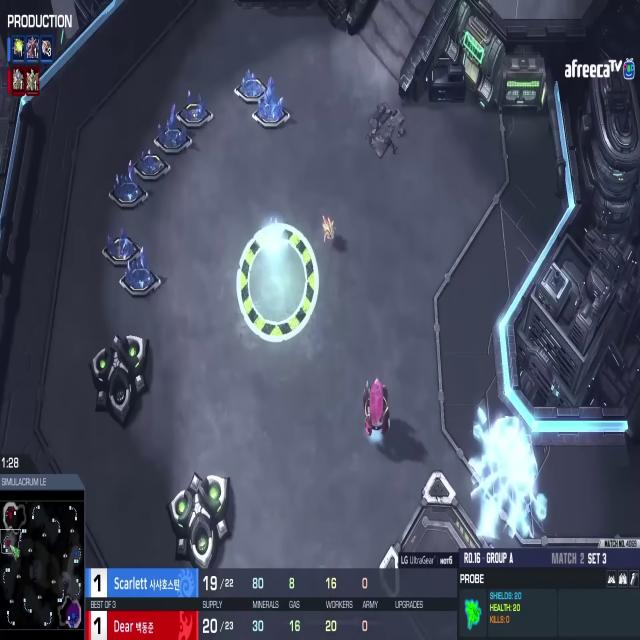probe: (320, 205, 340, 250)
